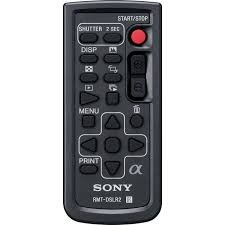remote control: (64, 5, 160, 221)
